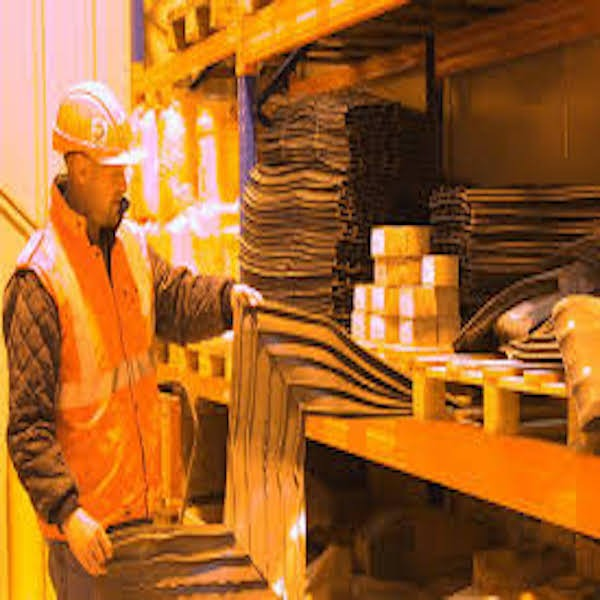helmet: (55, 83, 141, 167)
vest: (20, 212, 169, 528)
